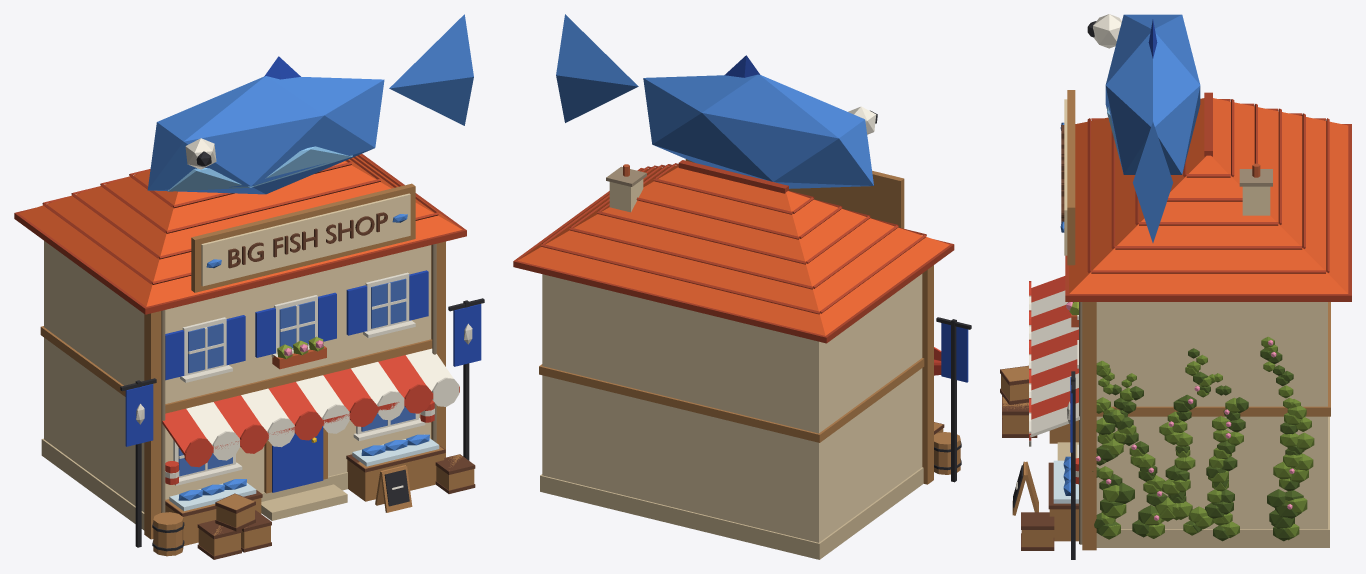
File: big_fish_shop.glb
3 renders of one model, left to right at view 1: azimuth 30°, elevation 25°; view 2: azimuth 150°, elevation 25°; view 3: azimuth 270°, elevation 25°, orthographic. The views are drawn at different scales.
Parts seen in each view (by area): view 1: big_fish_shop; view 2: big_fish_shop; view 3: big_fish_shop.
Part boxes in pixels (x1,y1,x2,y2): big_fish_shop: (14, 14, 484, 559); big_fish_shop: (513, 14, 971, 559); big_fish_shop: (1000, 14, 1351, 559).
Size of the model in its own units: 12.05 by 12.77 by 8.84.
